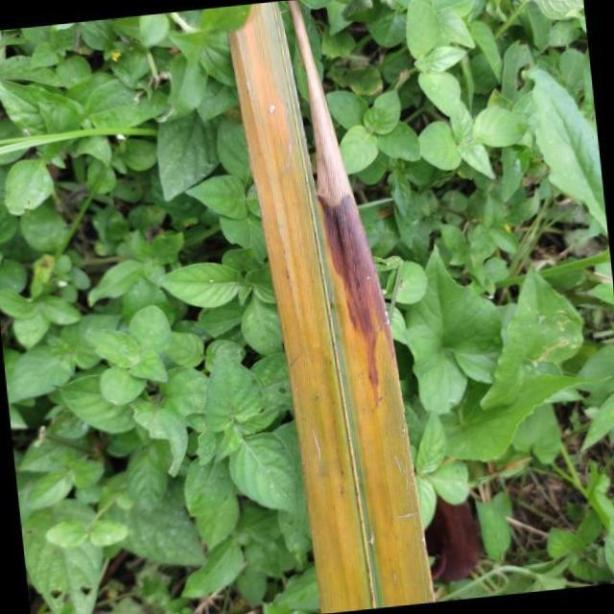Megnesium: (224, 0, 435, 614)
